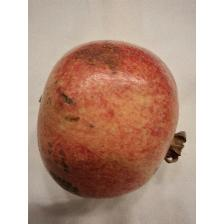Granatapfel: (36, 36, 188, 202)
